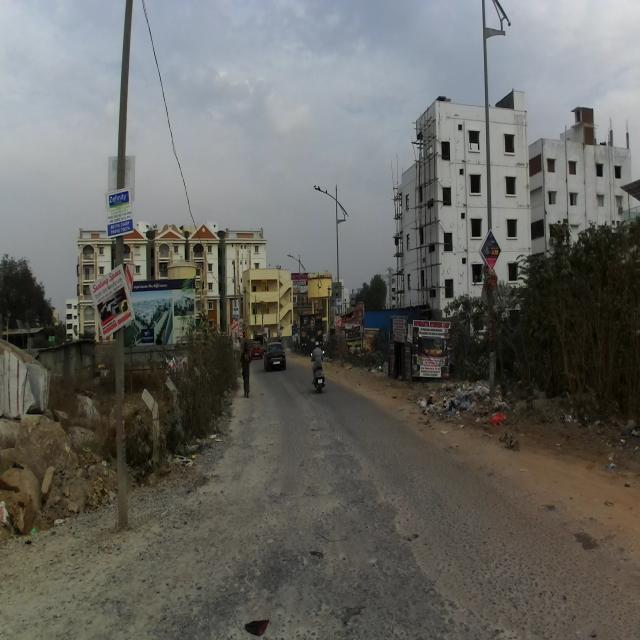electric pole ahead at: (98, 3, 145, 553)
stones ahead at: (6, 409, 80, 535)
